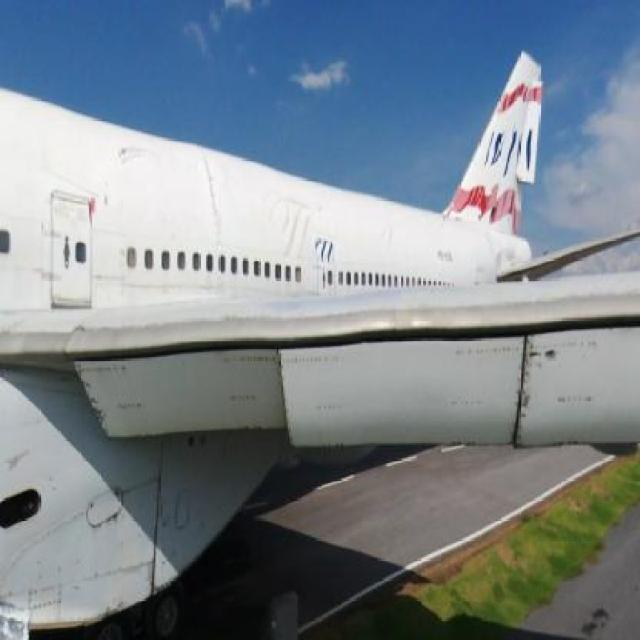Scartch: (521, 338, 564, 411), (78, 367, 114, 433)
